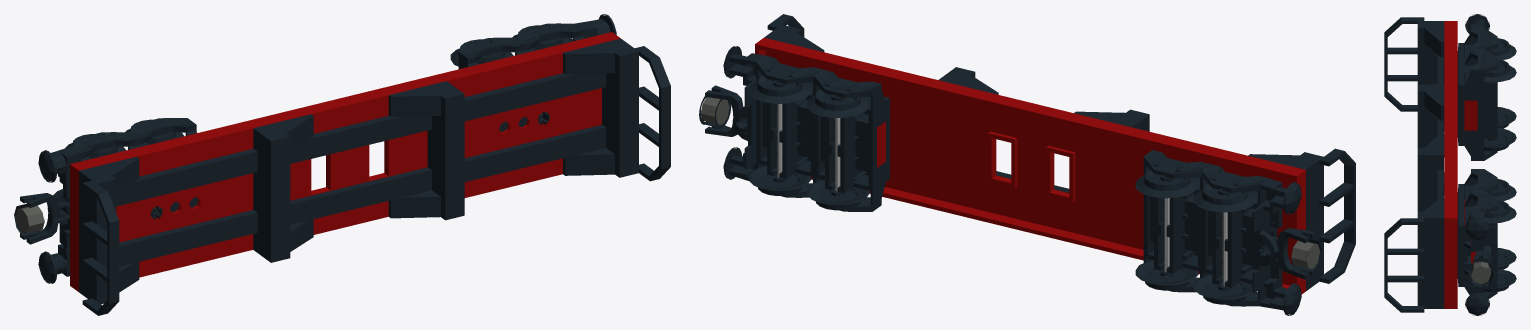
The model's file is wagon-3.glb.
The picture shows the model from 3 angles, left to right: view 1: azimuth 30°, elevation 25°; view 2: azimuth 150°, elevation 25°; view 3: azimuth 270°, elevation 25°; orthographic projection. The views are drawn at different scales.
Size of the model in its own units: 250 by 52 by 63.6.
